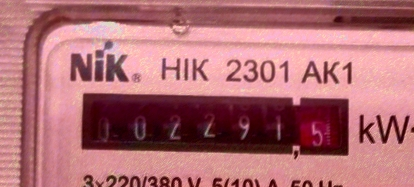0: (93, 111, 111, 140), (131, 111, 147, 140)
1: (270, 109, 284, 143)
2: (166, 111, 182, 140), (201, 109, 215, 138)
5: (308, 116, 324, 146)
9: (235, 110, 251, 140)
screen: (76, 85, 353, 162)
